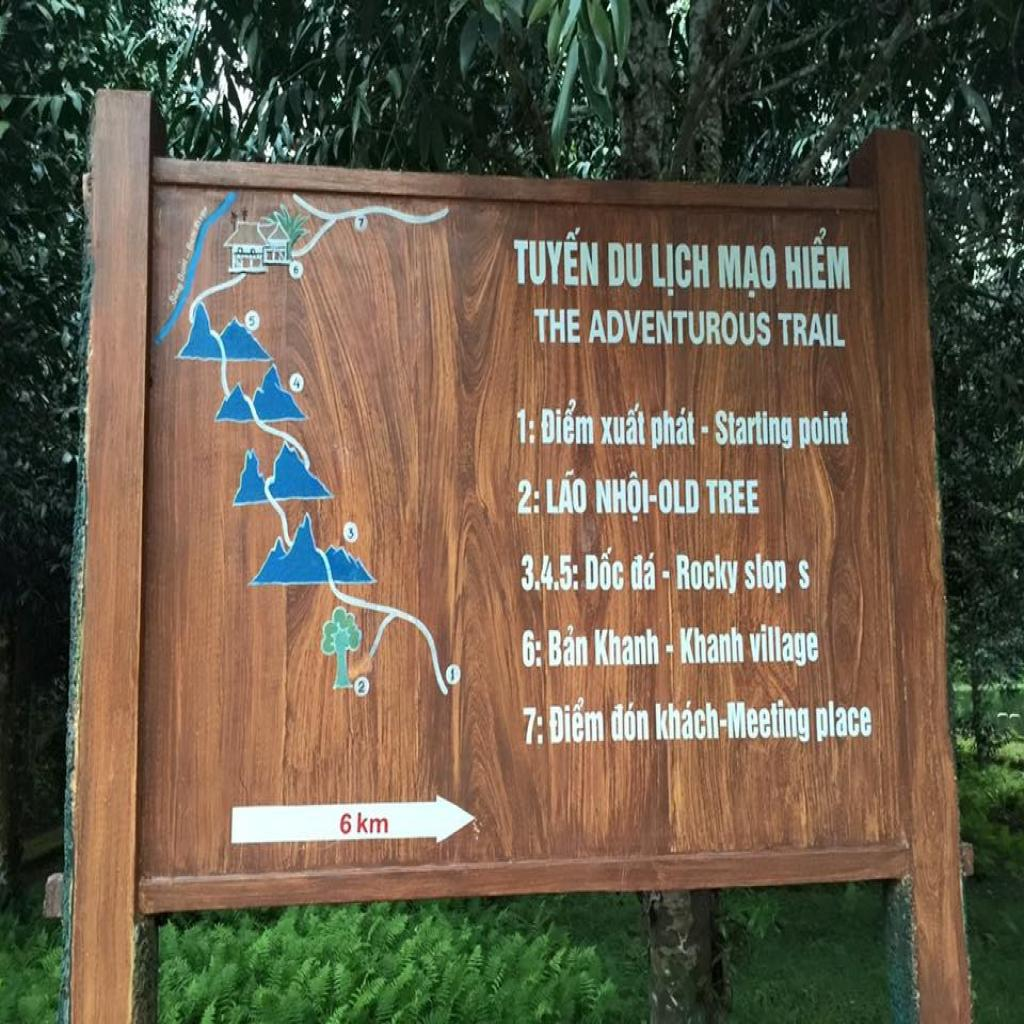text: (586, 308, 773, 348), (508, 223, 600, 289), (780, 225, 852, 294), (726, 697, 812, 749), (593, 468, 660, 529), (714, 240, 780, 300), (714, 405, 794, 451), (747, 620, 821, 669), (648, 242, 712, 298), (547, 691, 608, 748), (673, 548, 741, 598), (652, 698, 728, 742), (591, 624, 663, 668), (677, 623, 748, 667), (812, 698, 874, 746), (540, 396, 596, 446), (518, 549, 580, 594), (776, 311, 847, 350), (797, 405, 852, 454), (546, 618, 592, 672), (702, 476, 761, 518), (598, 398, 648, 447), (650, 402, 698, 452), (543, 465, 590, 516), (584, 542, 625, 594), (742, 554, 790, 598), (608, 698, 653, 744), (605, 239, 645, 290), (532, 306, 582, 346), (657, 476, 701, 518), (627, 544, 658, 594), (518, 624, 545, 673), (518, 704, 545, 750), (516, 475, 542, 518), (354, 809, 391, 835), (515, 405, 539, 445), (796, 554, 814, 594), (336, 809, 355, 838), (448, 664, 460, 683), (344, 523, 356, 542), (246, 312, 260, 328), (290, 263, 303, 279), (356, 677, 367, 695), (291, 376, 303, 390), (357, 218, 368, 233)
